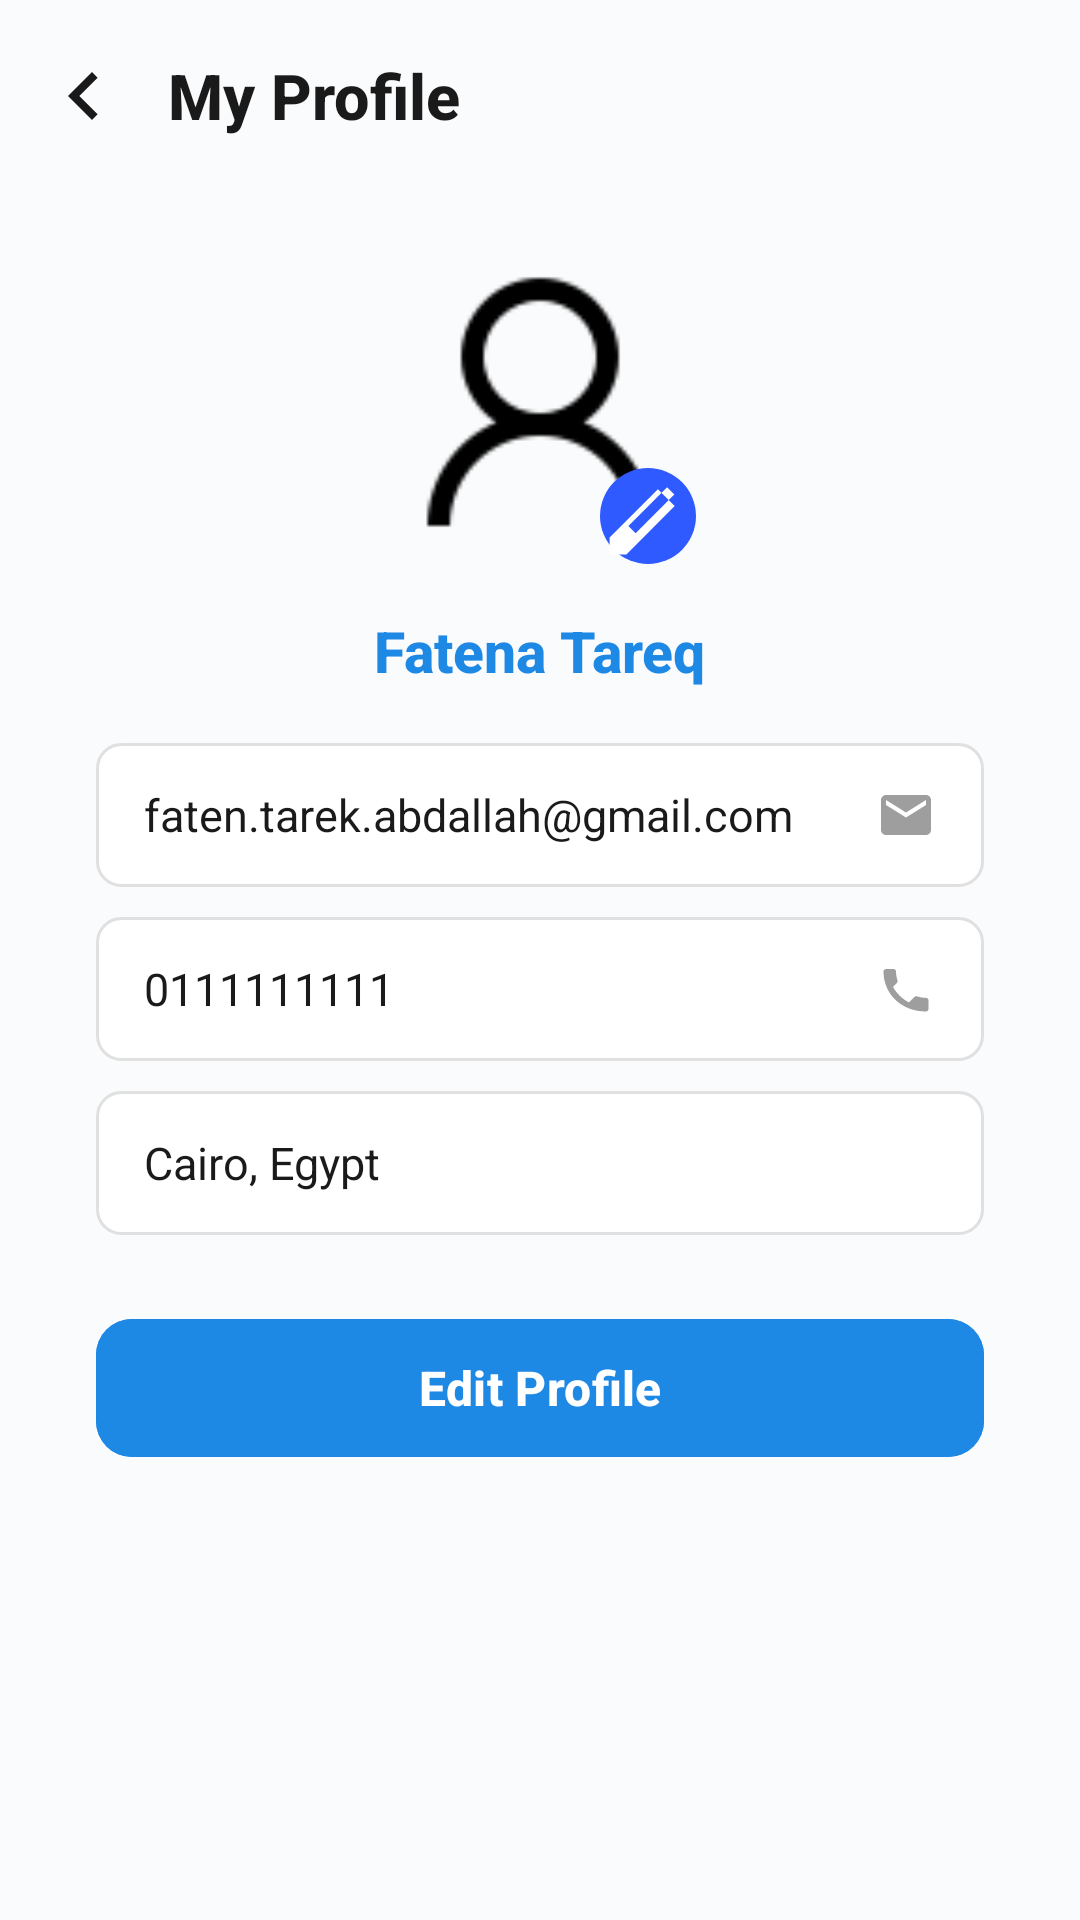

Named icons in this screenshot (1080 × 1920) and their bounding boxes, Rect(x1, y1, x2, y2):
Back: Rect(68, 72, 98, 120)
Email Icon: Rect(881, 795, 931, 835)
Phone Icon: Rect(883, 969, 929, 1012)
